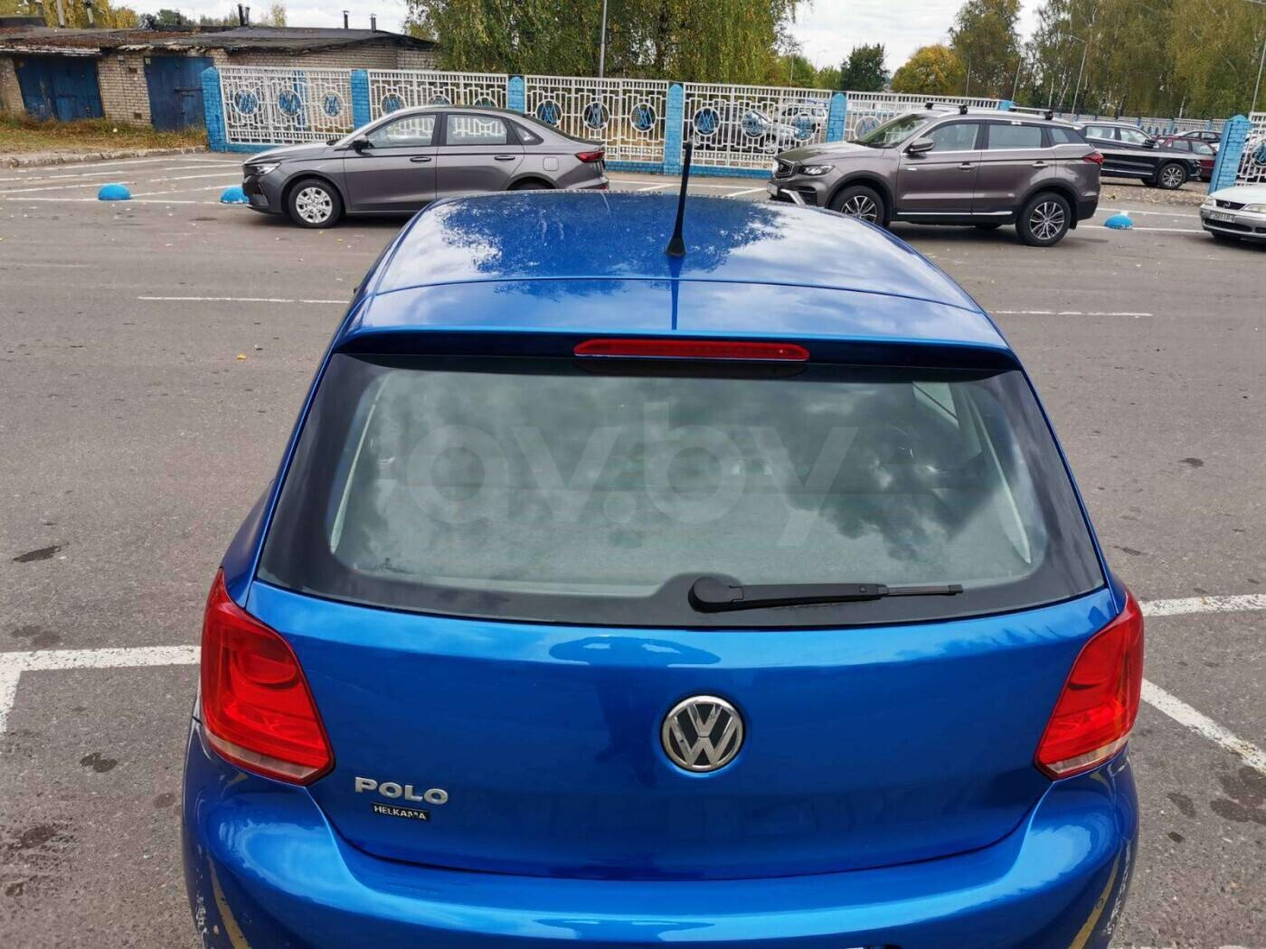Polo_2009-2015: (160, 200, 1142, 949)
